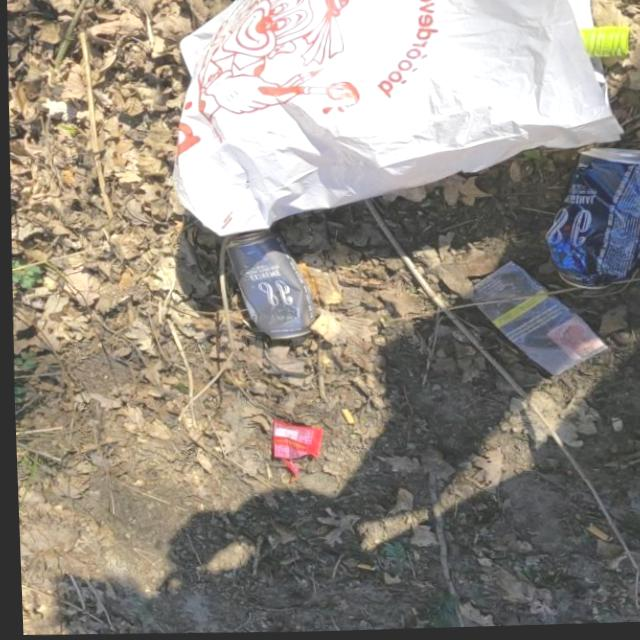Can-Metal: (535, 146, 640, 295), (218, 227, 317, 345)
Paper: (160, 0, 627, 245), (461, 260, 608, 382)
Plastic: (264, 418, 321, 486)
